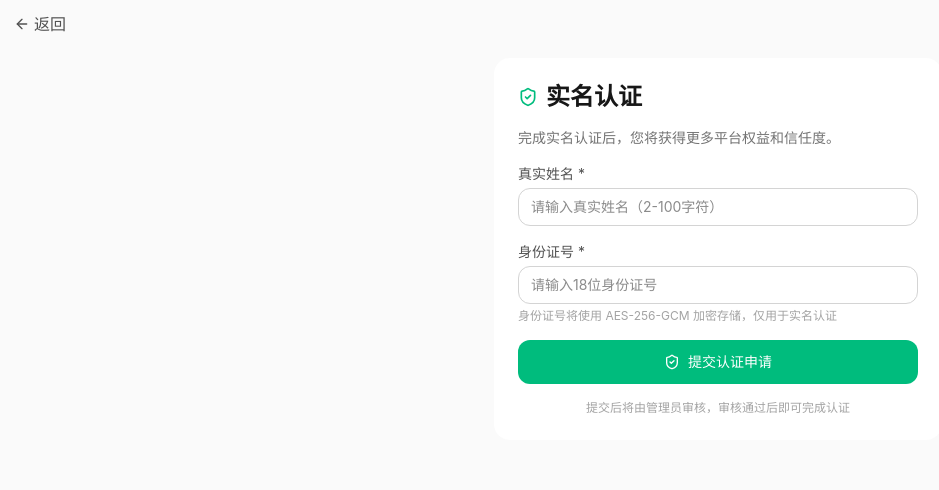
Test case: Profile/Verify 实名认证页 › 真实姓名为空时提交显示"请填写完整信息"
This screenshot has width=939, height=490.
Expected: the button "提交认证申请" is shown, x1=518 y1=340 x2=918 y2=384
仅填身份证号，不填真实姓名
Type "110101199001011234" into the field with placeholder "请输入18位身份证号".
click(718, 285); type("110101199001011234")  # box x1=518 y1=266 x2=918 y2=304
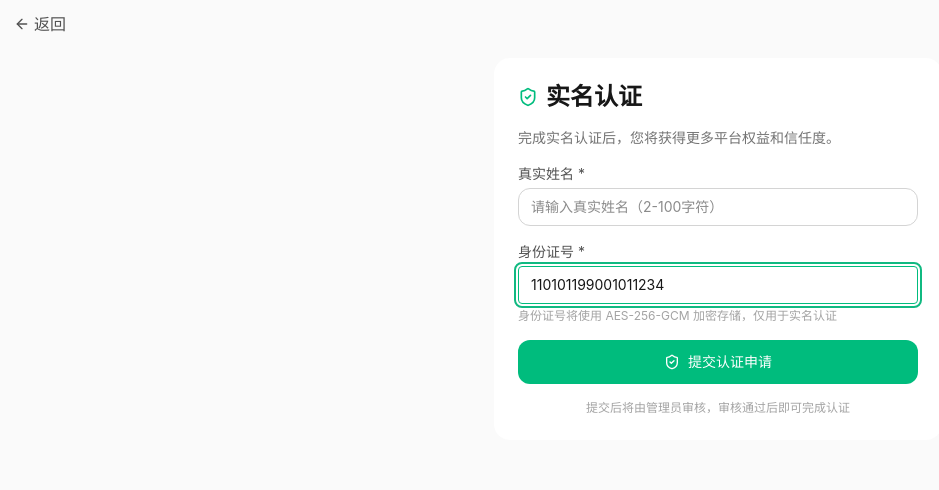
Click the button "提交认证申请".
click(718, 362)  # box x1=518 y1=340 x2=918 y2=384
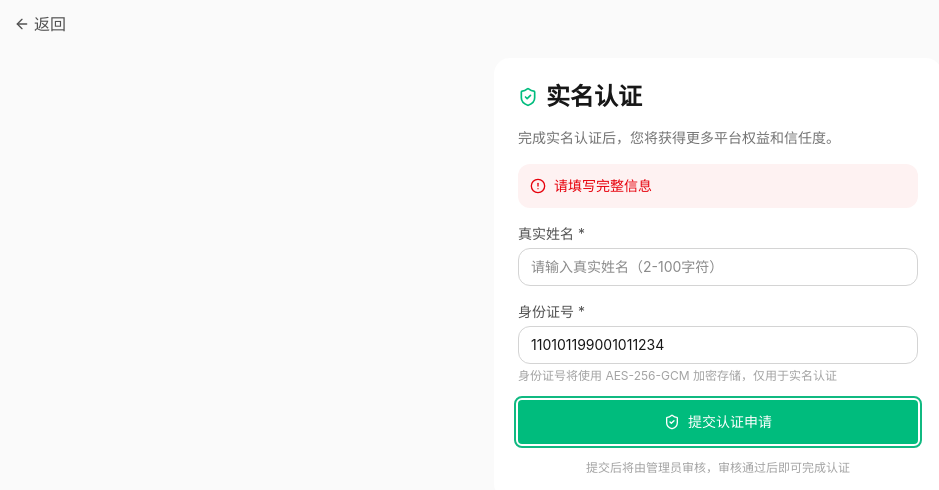
Expected: the text "请填写完整信息" is shown, x1=518 y1=164 x2=918 y2=208
